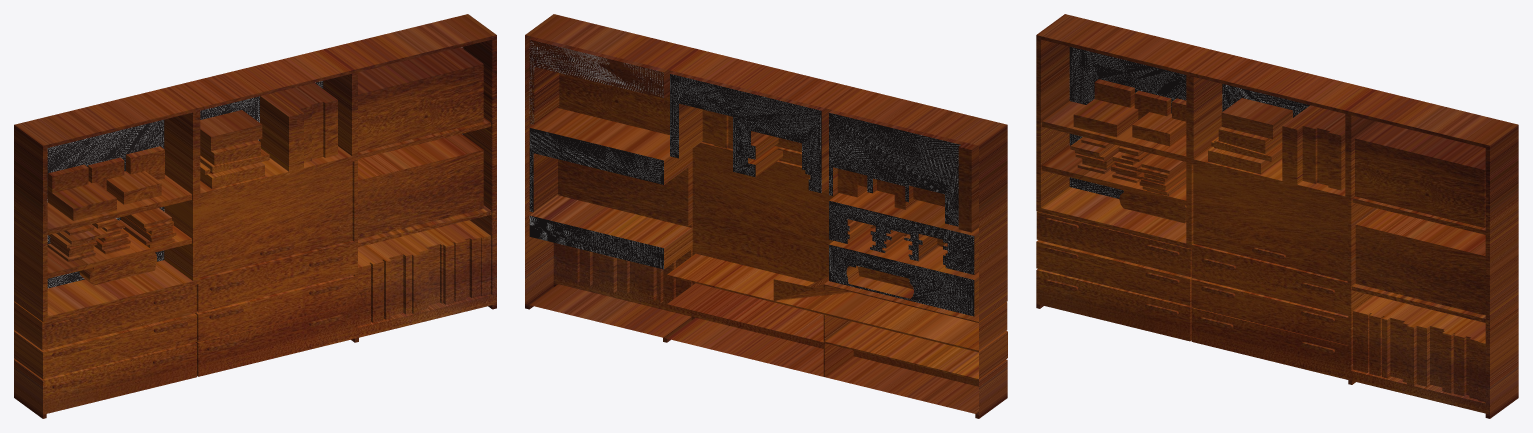
The picture shows the model from 3 angles, left to right: view 1: azimuth 30°, elevation 25°; view 2: azimuth 150°, elevation 25°; view 3: azimuth 330°, elevation 25°; orthographic projection.
Visible parts, largest first — view 1: mesh1_mesh1-geometry; view 2: mesh1_mesh1-geometry; view 3: mesh1_mesh1-geometry.
Boxes of the visible parts, x1,y1,x2,y2 form: mesh1_mesh1-geometry: [14, 14, 496, 418]; mesh1_mesh1-geometry: [525, 14, 1007, 418]; mesh1_mesh1-geometry: [1036, 14, 1518, 418].
Bounding box in the file's own units: 0.8615 × 0.4957 × 0.1098.
